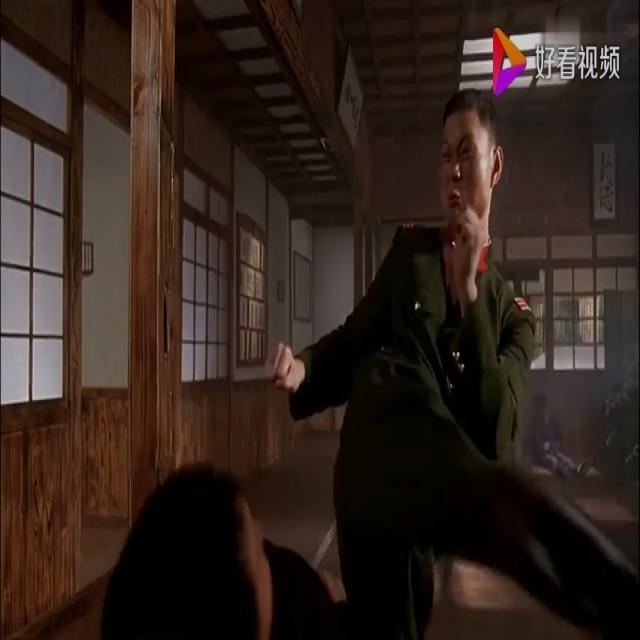fight: (91, 92, 640, 640)
